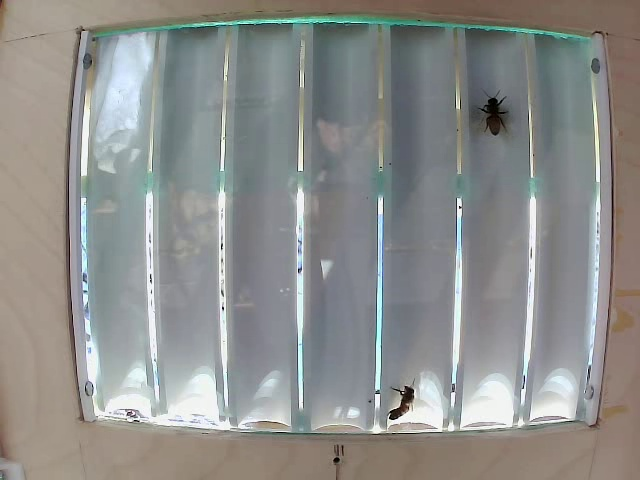bee: (478, 82, 516, 148)
